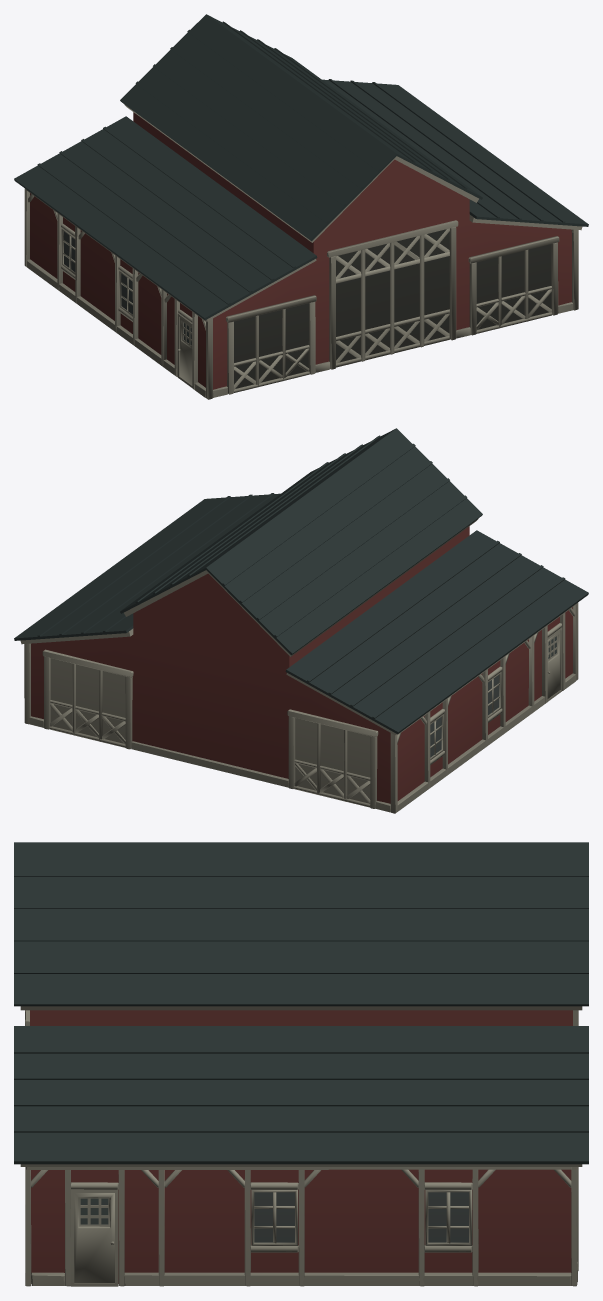
Rendered from farm_barn_4.glb.
The picture shows the model from 3 angles, top to bottom: view 1: azimuth 30°, elevation 25°; view 2: azimuth 150°, elevation 25°; view 3: azimuth 270°, elevation 25°; orthographic projection. The views are drawn at different scales.
Parts seen in each view (by area): view 1: farm_barn_4; view 2: farm_barn_4; view 3: farm_barn_4.
Part boxes in pixels (box(x1,y1,x2,y2)): farm_barn_4: box(14, 14, 588, 399); farm_barn_4: box(14, 428, 588, 813); farm_barn_4: box(14, 842, 588, 1286).
Bounding box in the file's own units: 14.79 × 7.51 × 12.7.
Materials: 1 (1 with a texture image).
